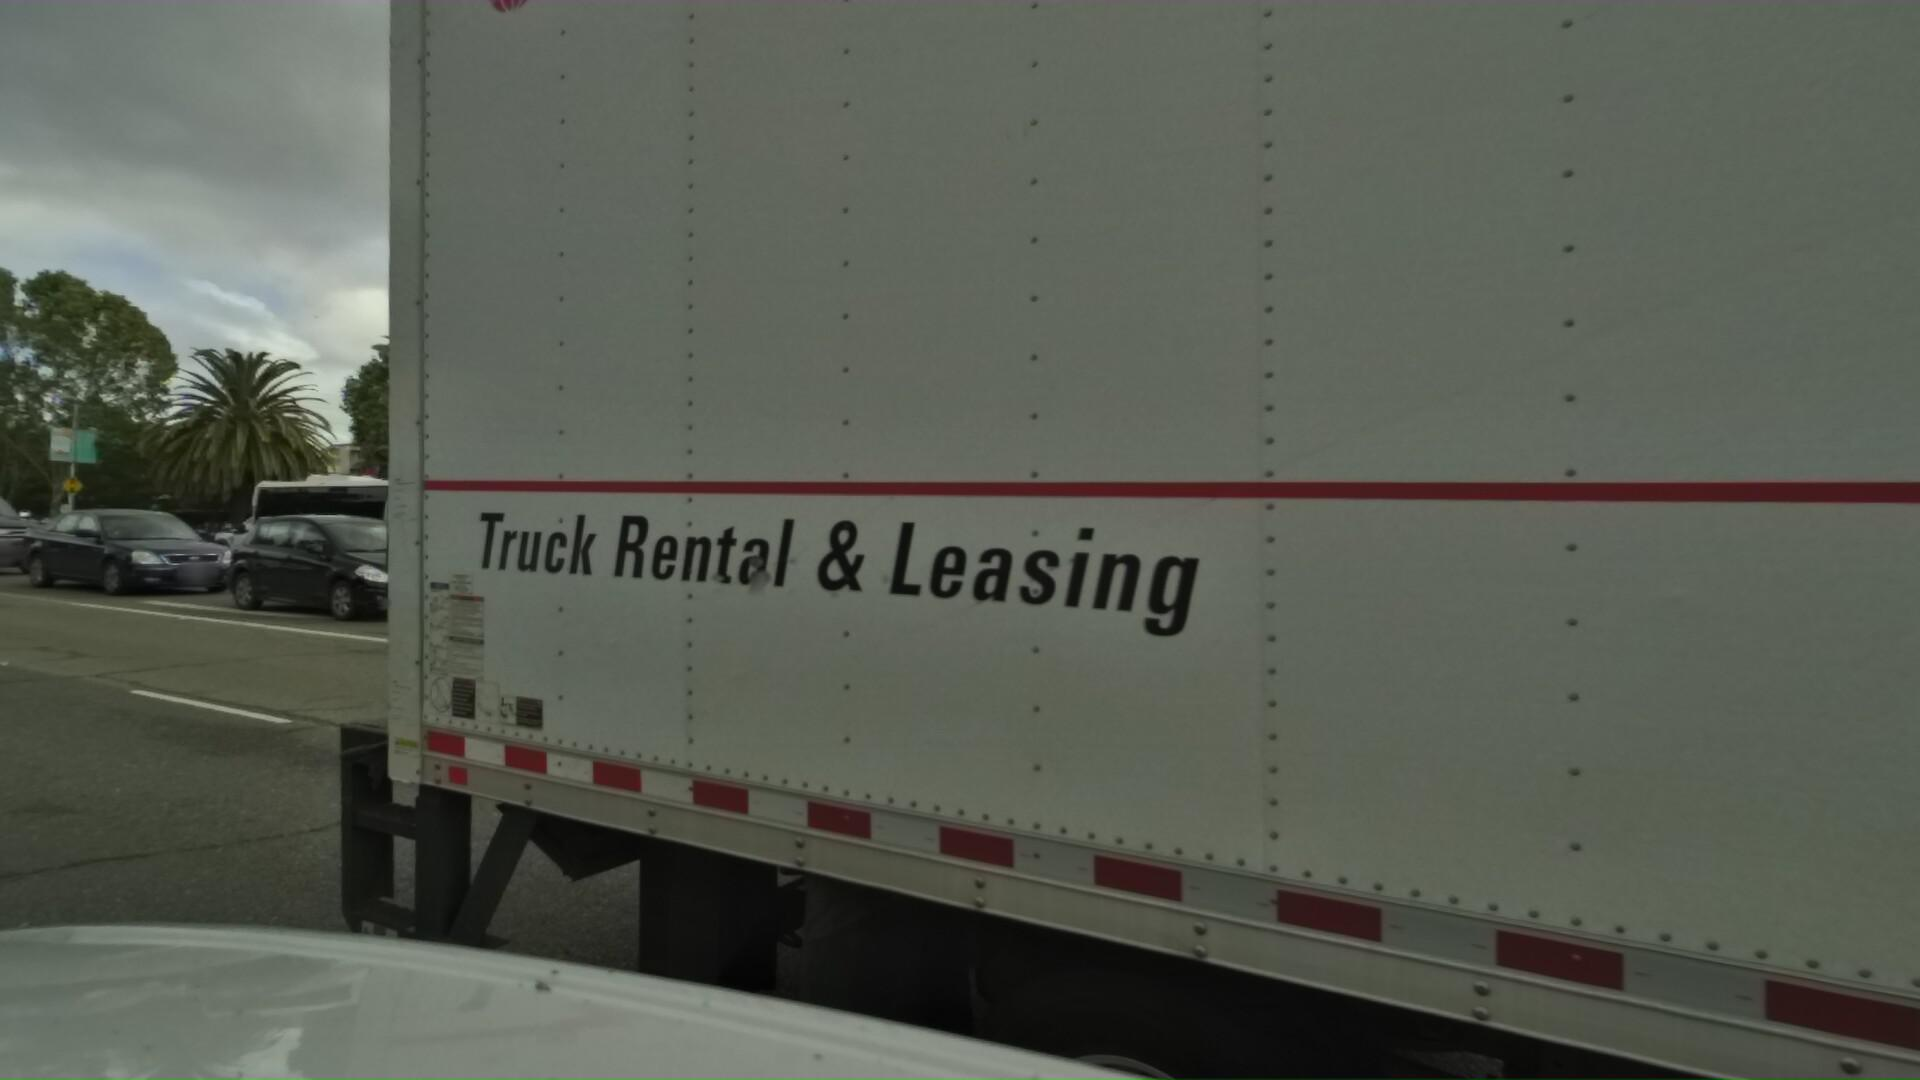bus: (193, 459, 487, 593)
car: (196, 510, 481, 630), (0, 506, 248, 607), (338, 518, 512, 589), (0, 495, 57, 592)
